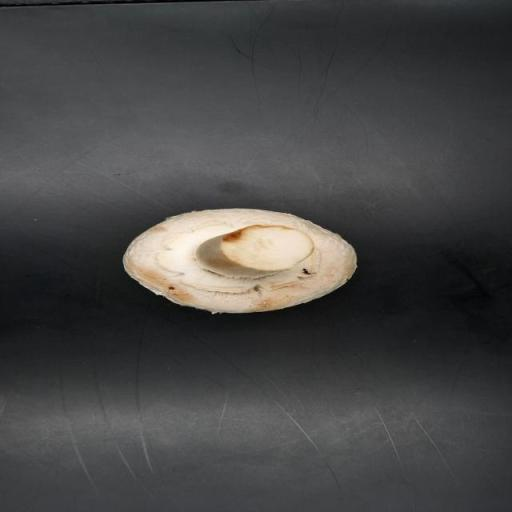mushroom: (124, 211, 355, 312)
